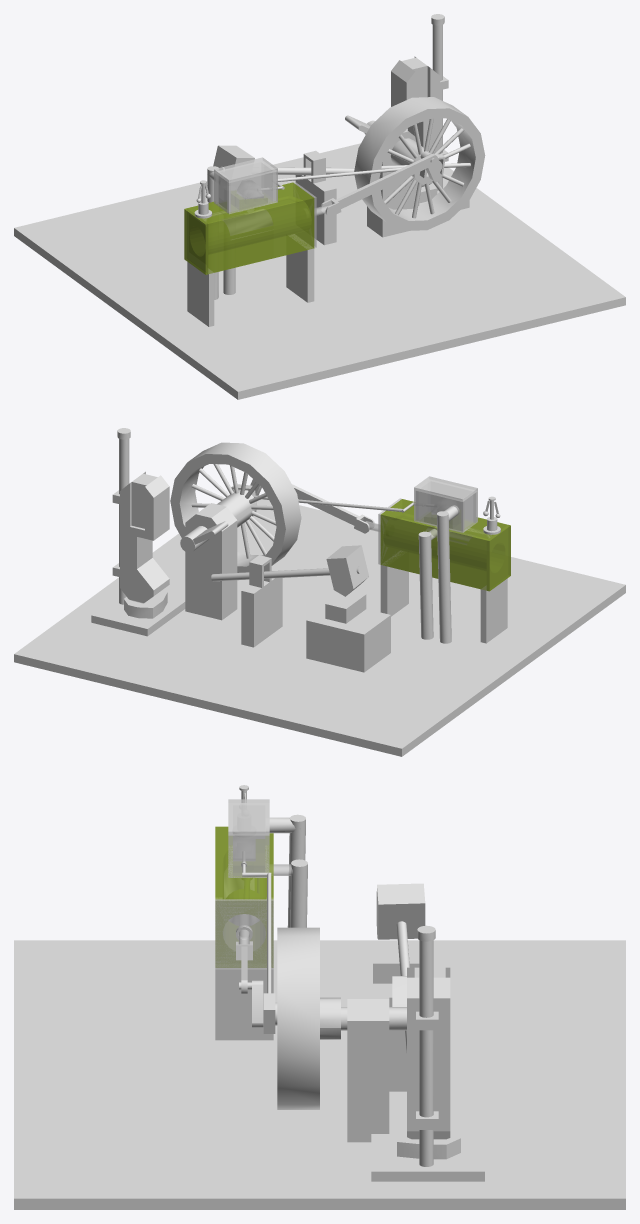
File: Steam EngineV2_6.dae
3 renders of one model, top to bottom at view 1: azimuth 30°, elevation 25°; view 2: azimuth 150°, elevation 25°; view 3: azimuth 270°, elevation 25°, orthographic. The views are drawn at different scales.
Visible parts, largest first — view 1: mesh97, mesh91, mesh132, mesh63, mesh1, mesh89, mesh127, mesh39, mesh99, mesh6, mesh16, mesh128 (+4 smaller); view 2: mesh97, mesh91, mesh132, mesh89, mesh43, mesh63, mesh99, mesh14, mesh86, mesh57, mesh68, mesh127 (+12 smaller); view 3: mesh97, mesh91, mesh89, mesh132, mesh14, mesh61, mesh39, mesh72, mesh63, mesh57, mesh16, mesh69 (+11 smaller).
Part boxes in pixels (x1,y1,x2,y2): mesh97: (14, 143, 625, 399); mesh91: (354, 97, 485, 230); mesh132: (184, 182, 314, 274); mesh63: (391, 56, 440, 122); mesh1: (227, 170, 277, 214); mesh89: (367, 130, 419, 237); mesh127: (187, 262, 214, 326); mesh39: (286, 234, 314, 302); mesh99: (295, 175, 336, 245); mesh6: (336, 153, 438, 208); mesh16: (214, 157, 277, 183); mesh128: (214, 160, 263, 203); mesh97: (14, 495, 625, 756); mesh91: (170, 442, 301, 572); mesh132: (380, 499, 510, 591); mesh89: (185, 503, 237, 620); mesh43: (306, 607, 390, 672); mesh63: (120, 471, 169, 540); mesh99: (241, 570, 282, 647); mesh14: (91, 593, 185, 636); mesh86: (437, 511, 451, 643); mesh57: (326, 545, 368, 596); mesh68: (120, 558, 169, 603); mesh127: (480, 578, 507, 643); mesh97: (14, 940, 625, 1209); mesh91: (277, 927, 340, 1109); mesh89: (347, 988, 389, 1142); mesh132: (215, 826, 273, 967); mesh14: (371, 1134, 484, 1181); mesh61: (215, 899, 273, 969); mesh39: (215, 968, 273, 1040); mesh72: (419, 940, 433, 1166); mesh63: (407, 967, 450, 1055); mesh57: (376, 883, 425, 939); mesh16: (228, 799, 269, 835); mesh69: (407, 1055, 450, 1099).
Bounding box in the file's own units: 25.4 × 25.4 × 11.7.
